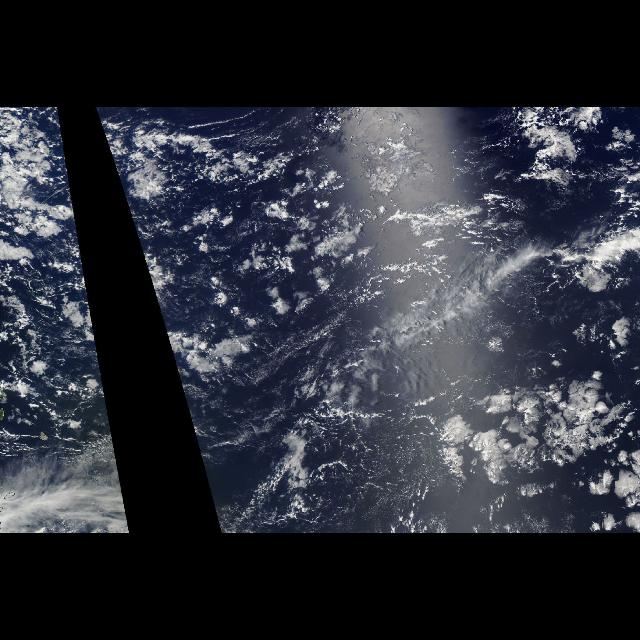Fish: (155, 242, 620, 402)
Flower: (137, 122, 370, 312), (440, 370, 640, 514)
Gravel: (94, 107, 326, 443), (0, 107, 114, 443)
